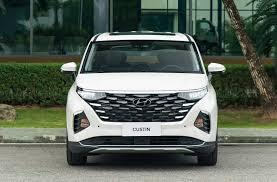hyundai: (132, 95, 151, 111)
